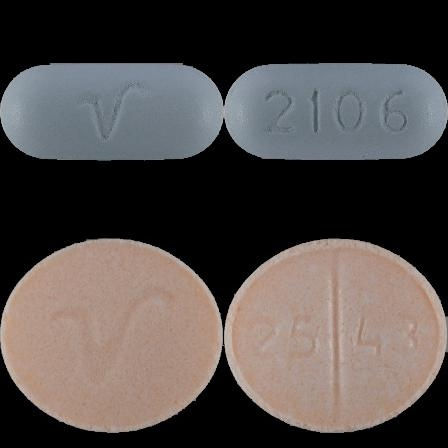63629-4304: (0, 0, 224, 224)
